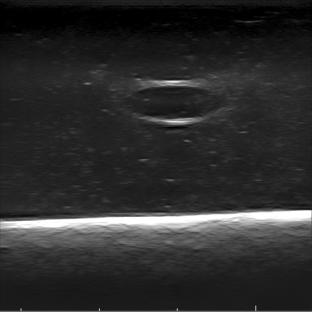vessel: (127, 79, 223, 125)
